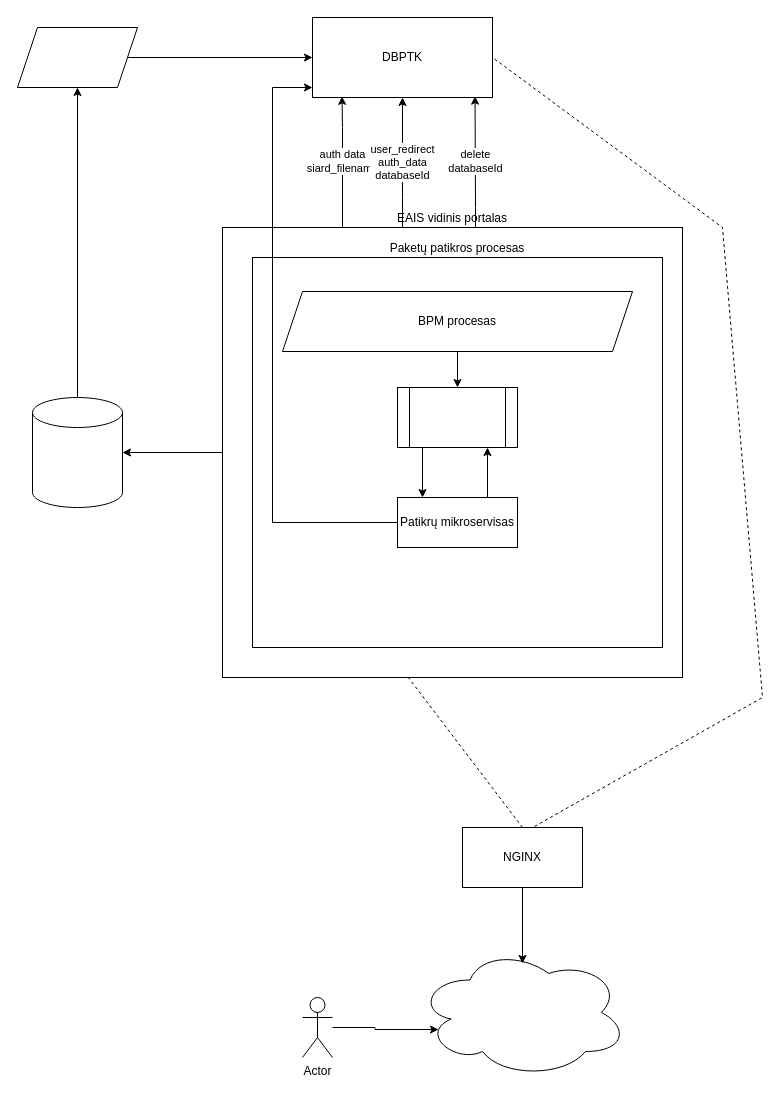
This 781x1096 diagram has some shape labels left out. Here are the shapes that lost their labels. From the top down, the centre of each, then its label:
(77,57): S3FS
(457,417): JMS
(77,452): S3
